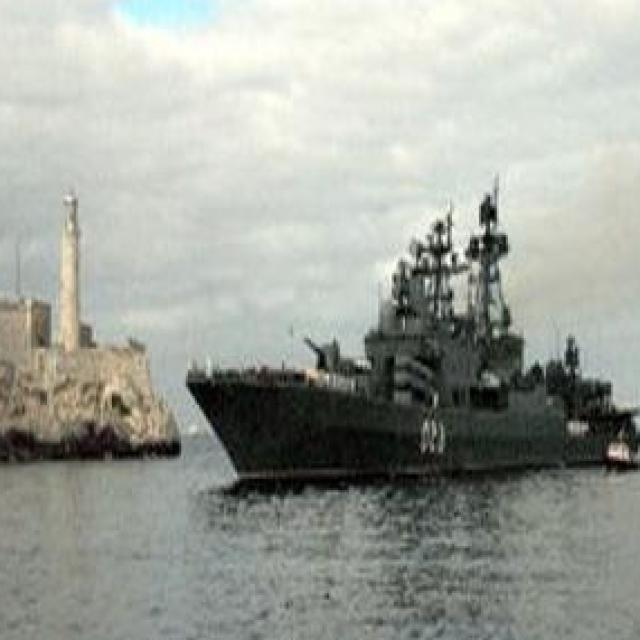navalvessels: (206, 178, 637, 487)
